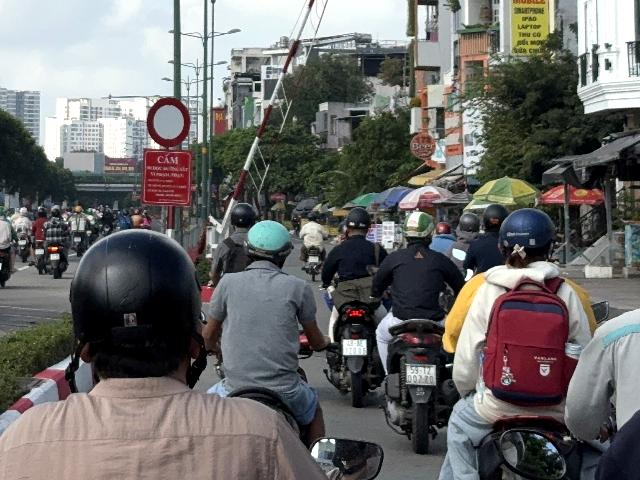duong-cam: (145, 96, 191, 146)
